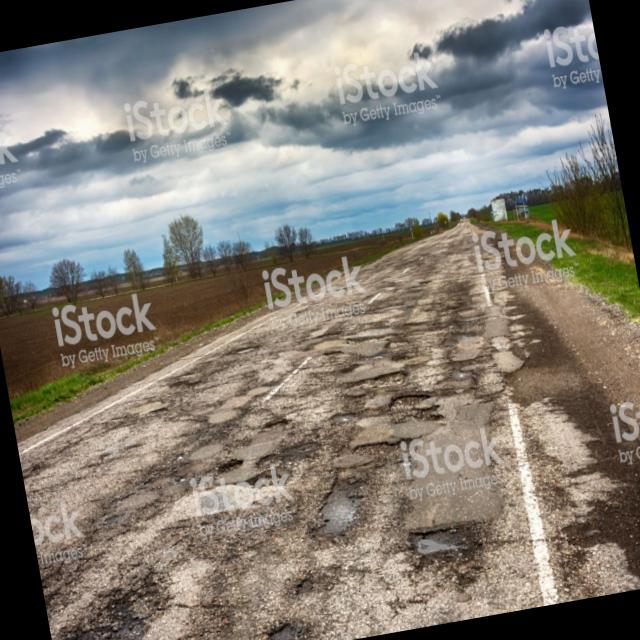Potholes: (318, 364, 500, 484), (41, 560, 186, 640), (300, 462, 400, 556), (396, 508, 483, 586), (212, 439, 300, 516), (282, 550, 344, 608), (260, 592, 316, 640)
